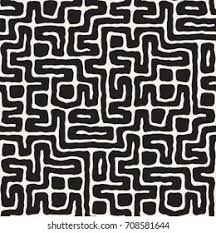maze: (1, 1, 214, 216)
